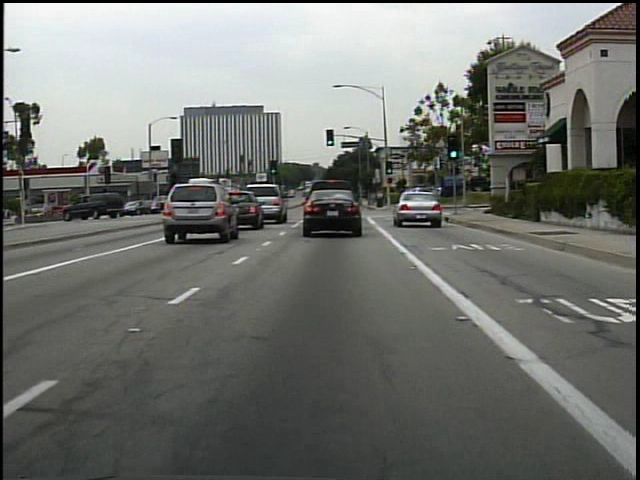person: (373, 188, 388, 211)
